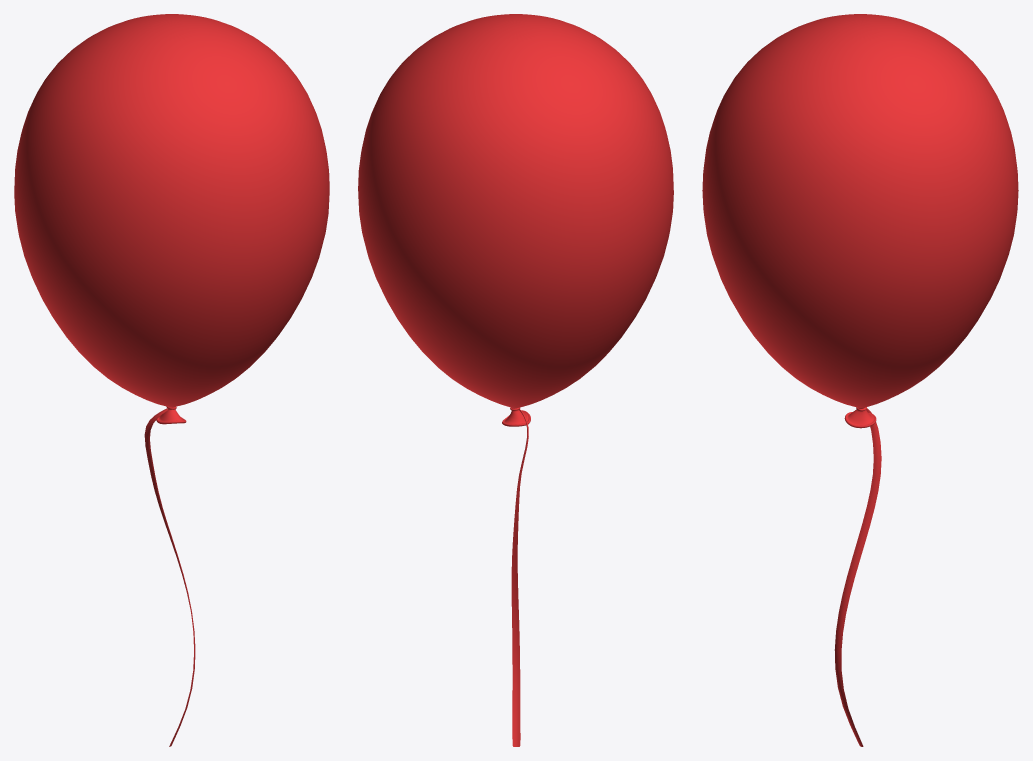
The model's file is Balloon_Export.fbx.
The picture shows the model from 3 angles, left to right: view 1: azimuth 30°, elevation 25°; view 2: azimuth 150°, elevation 25°; view 3: azimuth 270°, elevation 25°; orthographic projection.
Parts seen in each view (by area): view 1: BALLOON; view 2: BALLOON; view 3: BALLOON.
Boxes of the visible parts, x1,y1,x2,y2 form: BALLOON: [14, 14, 329, 746]; BALLOON: [358, 14, 673, 746]; BALLOON: [702, 14, 1018, 746].
Bounding box in the file's own units: 21.63 × 54.27 × 21.63.
